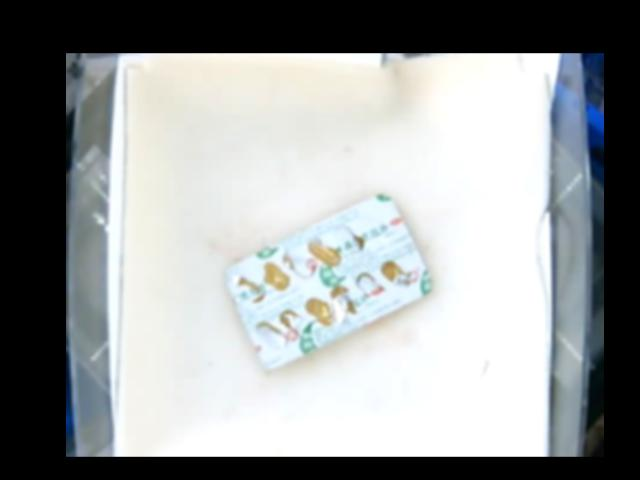Medicine: (226, 190, 433, 367)
